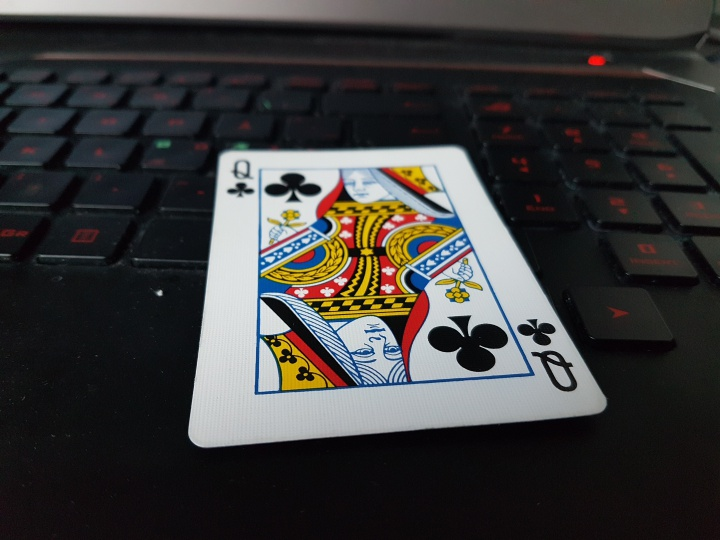queen: (185, 147, 608, 449)
